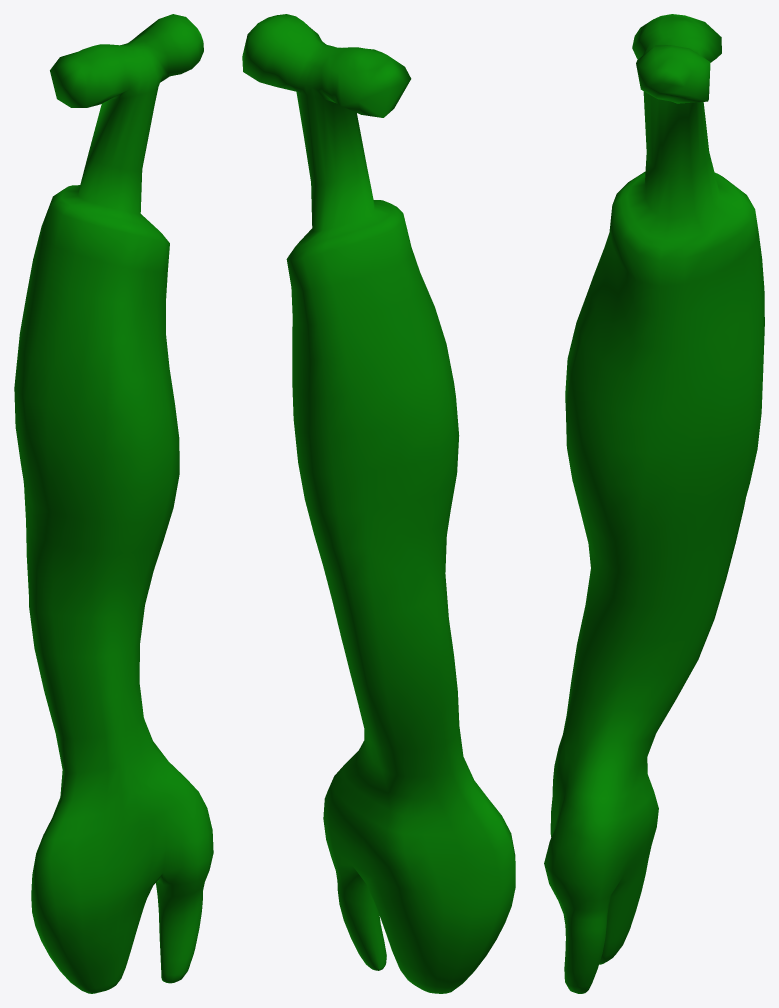
File: ZombiePartArmblend.fbx
3 renders of one model, left to right at view 1: azimuth 30°, elevation 25°; view 2: azimuth 150°, elevation 25°; view 3: azimuth 270°, elevation 25°, orthographic. The views are drawn at different scales.
Parts seen in each view (by area): view 1: Cube.001; view 2: Cube.001; view 3: Cube.001.
Boxes of the visible parts, left/top/right/bottom form: Cube.001: left=14, top=14, right=213, bottom=993; Cube.001: left=242, top=14, right=515, bottom=993; Cube.001: left=544, top=14, right=764, bottom=993.
Size of the model in its own units: 0.2054 by 0.8744 by 0.1804.
